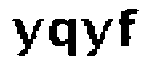f: (113, 4, 140, 50)
q: (46, 16, 81, 60)
y: (5, 15, 47, 59), (80, 15, 114, 60)
